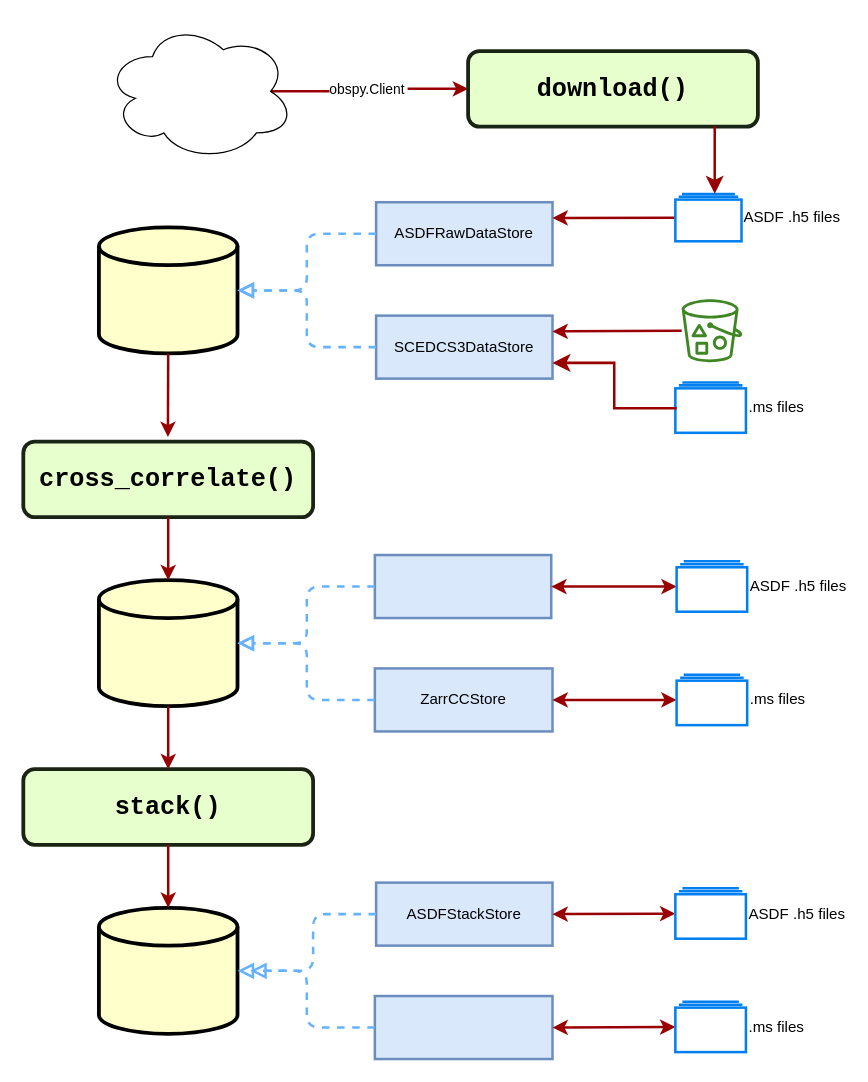
Some shapes in this 868 by 1082 pixel diagram are drawn without their labels. Here are the shapes that lost their labels. From the top down, the centre of each, then its label:
pixel 199 91: SCEDC, IRIS, GEONET, etc.
pixel 167 290: Raw Data Store
pixel 711 330: SCEDC S3 (.ms files)
pixel 462 586: ASDFCCStore
pixel 167 642: Cross Correlation Data Store
pixel 167 970: Stack Data Store
pixel 463 1027: ZarrStackStore
